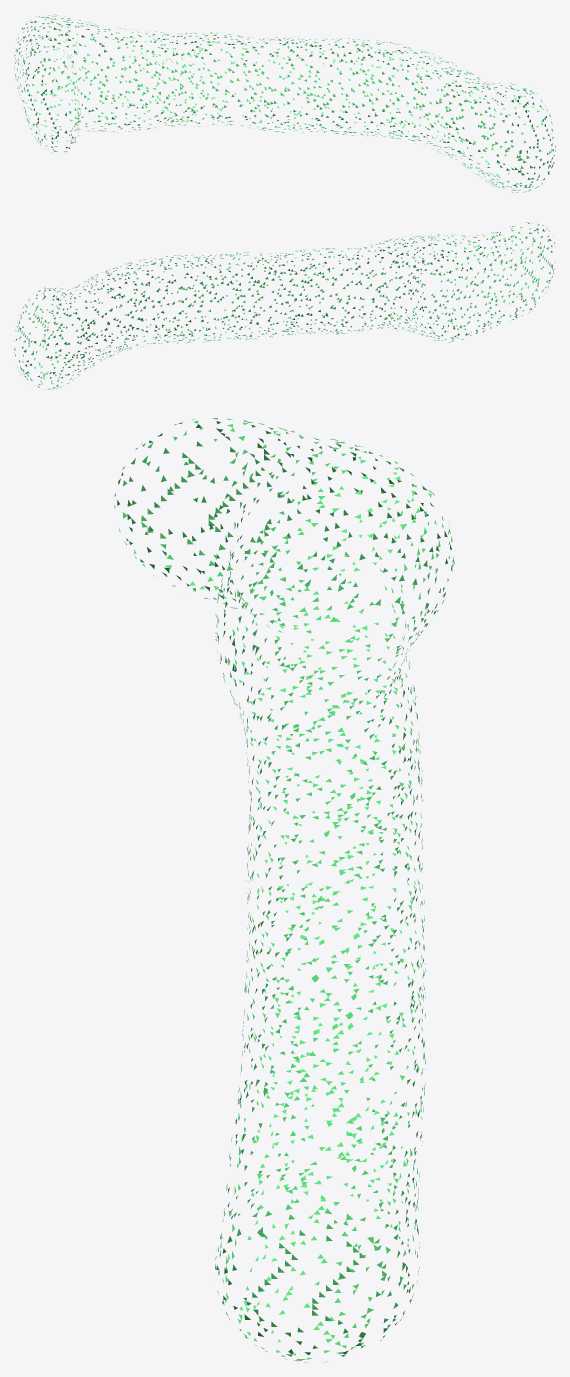
The model's file is morph_020.glb.
The picture shows the model from 3 angles, top to bottom: view 1: azimuth 30°, elevation 25°; view 2: azimuth 150°, elevation 25°; view 3: azimuth 270°, elevation 25°; orthographic projection. The views are drawn at different scales.
Size of the model in its own units: 121 by 60.34 by 37.1.
